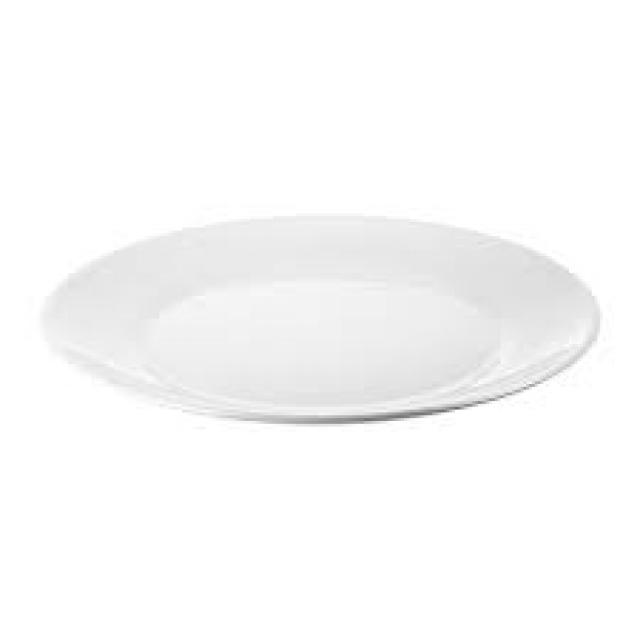dish: (40, 180, 608, 444)
